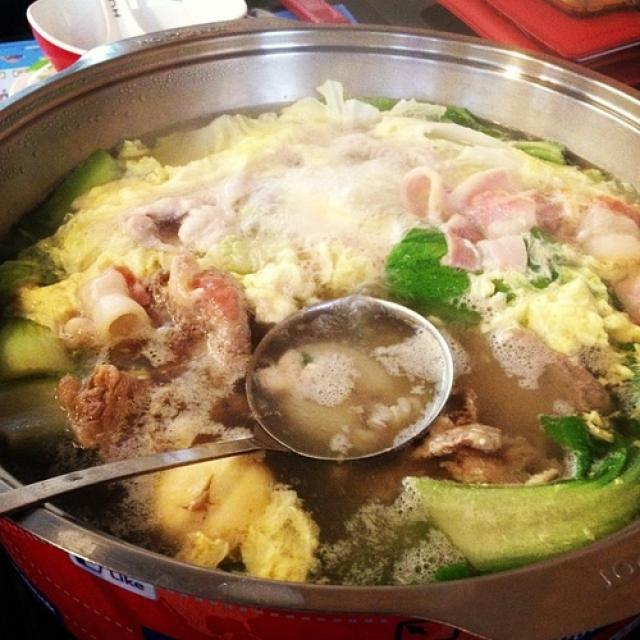汤锅炖物: (18, 28, 623, 608)
